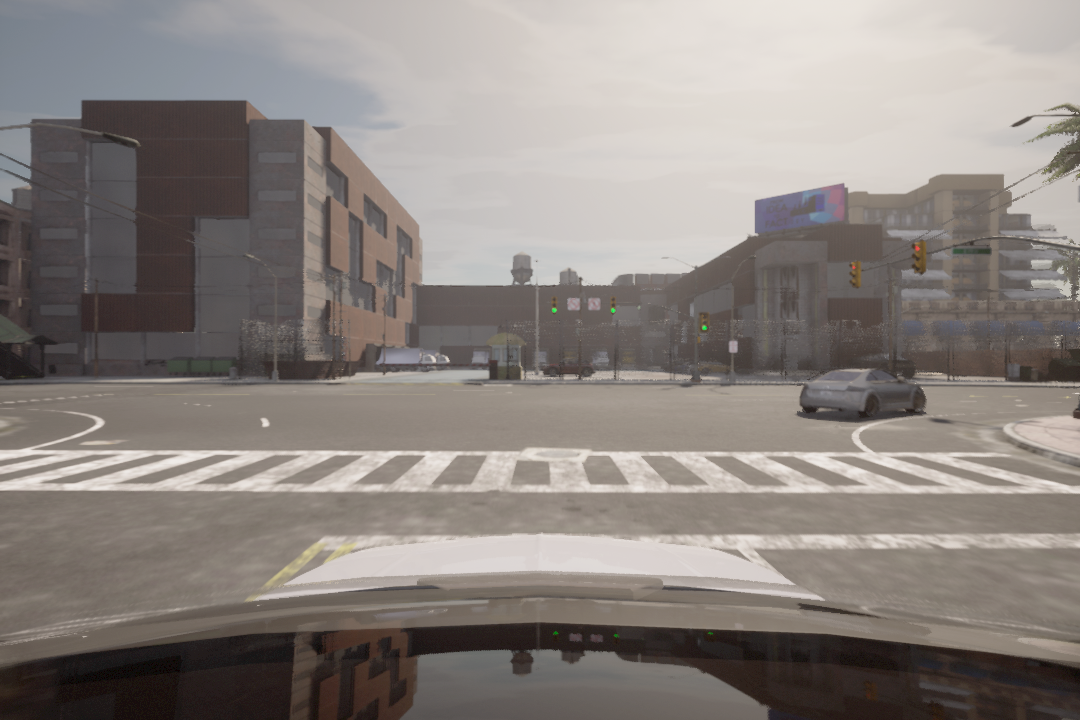TrafficLight: (912, 241, 926, 275), (847, 260, 863, 288), (698, 310, 710, 331), (610, 296, 617, 315), (550, 296, 557, 312)
walkside: (1, 444, 1080, 514)
